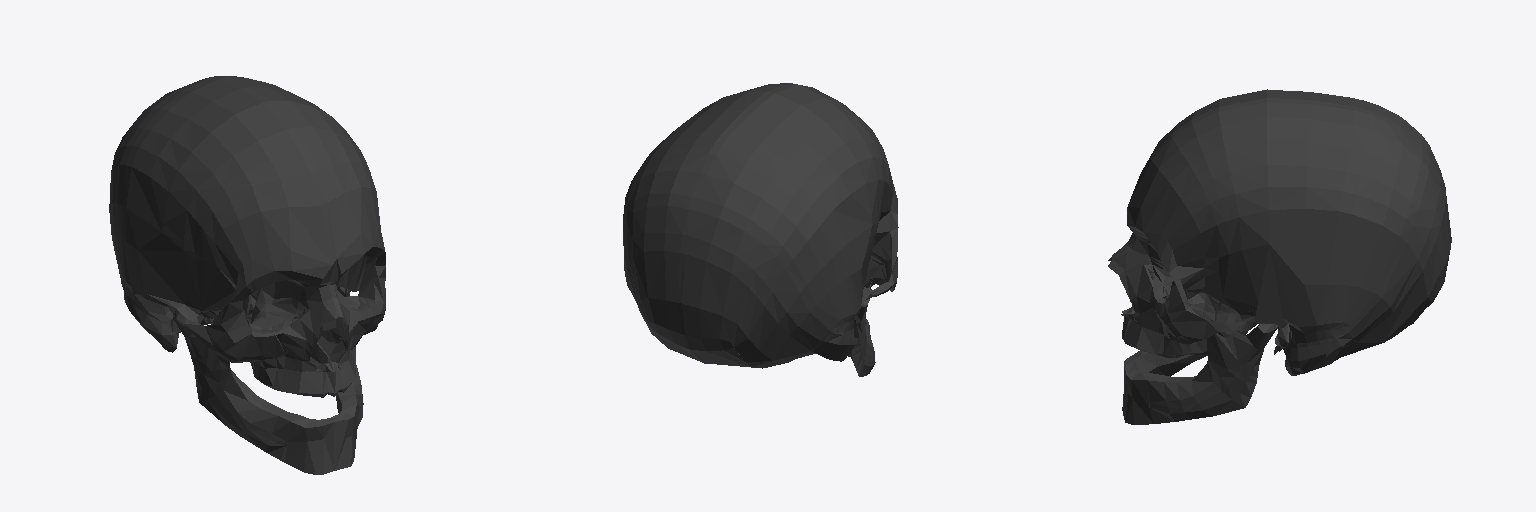
The model's file is Skull.obj.
3 views of the same model, side by side, from view 1: azimuth 30°, elevation 25°; view 2: azimuth 150°, elevation 25°; view 3: azimuth 270°, elevation 25° (orthographic).
Size of the model in its own units: 0.143 by 0.2019 by 0.199.